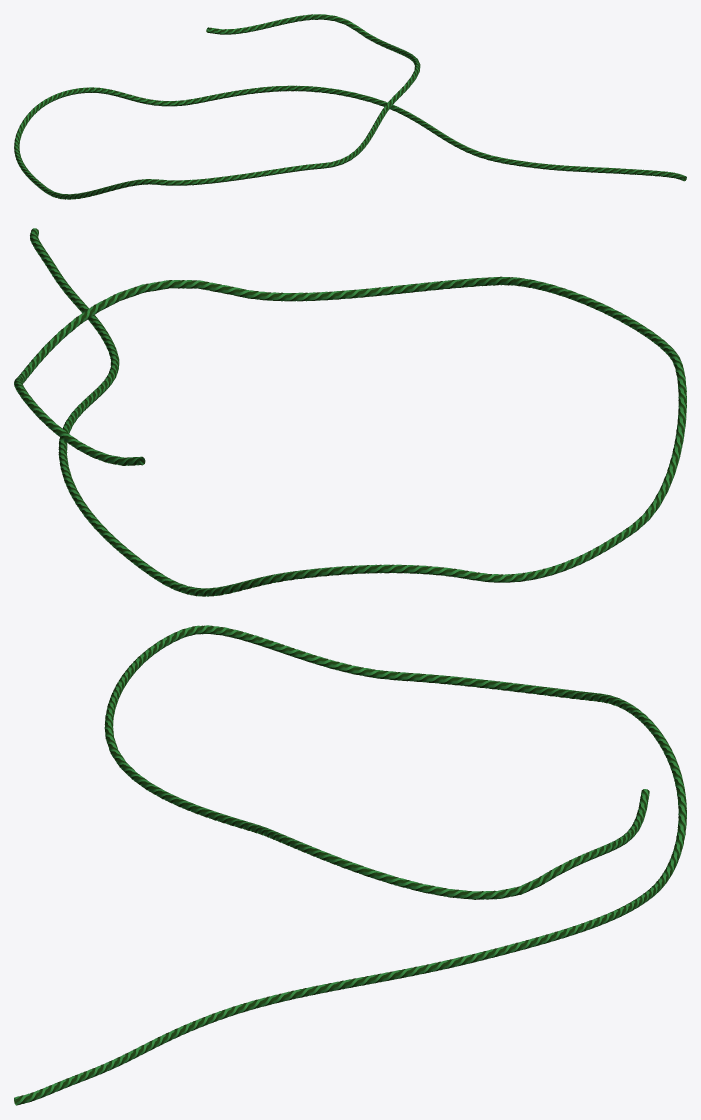
3 views of the same model, one above another, from view 1: azimuth 30°, elevation 25°; view 2: azimuth 150°, elevation 25°; view 3: azimuth 270°, elevation 25° (orthographic). The views are drawn at different scales.
Visible parts, largest first — view 1: Root; view 2: Root; view 3: Root.
Part boxes in pixels (x1,y1,x2,y2): Root: (14,14,686,199); Root: (14,228,686,596); Root: (14,625,686,1105).
Bounding box in the file's own units: 72867 × 11611 × 52803.
